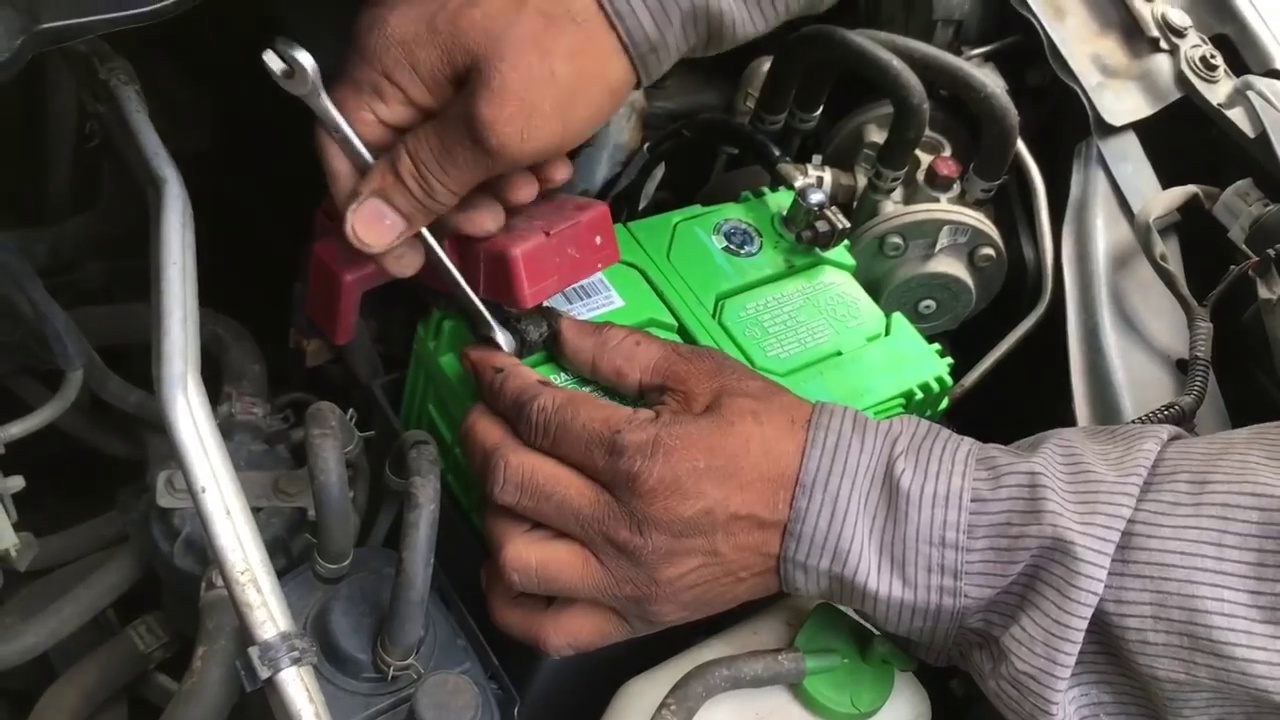battery: (436, 184, 954, 451)
neg_connected: (763, 129, 833, 257)
pos_touched: (381, 129, 623, 453)
